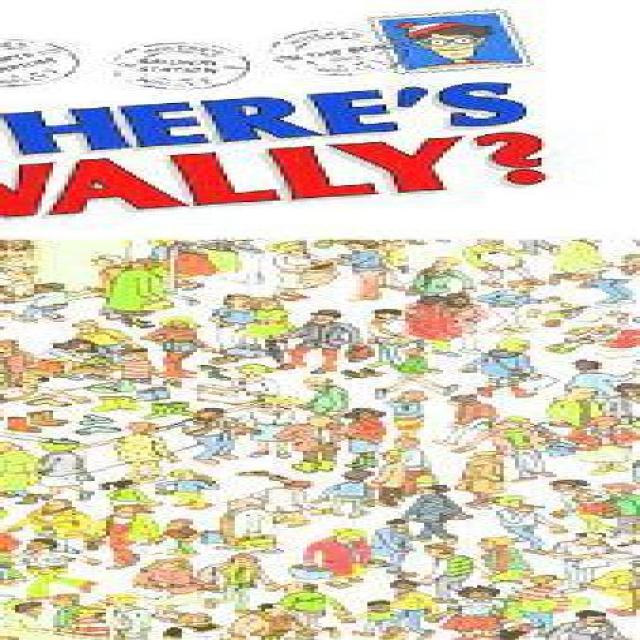waldo: (394, 22, 488, 59)
